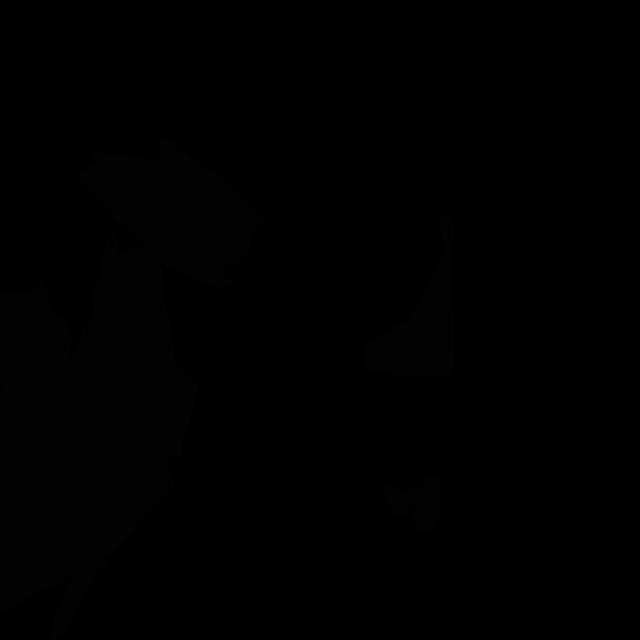cardboard: (71, 137, 265, 458), (0, 384, 174, 615), (0, 278, 92, 469), (363, 213, 455, 378), (48, 558, 110, 640), (382, 474, 442, 532)
